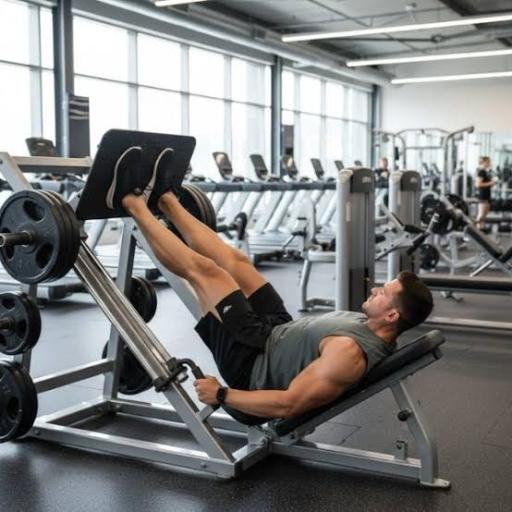Leg Press: (9, 164, 419, 464)
